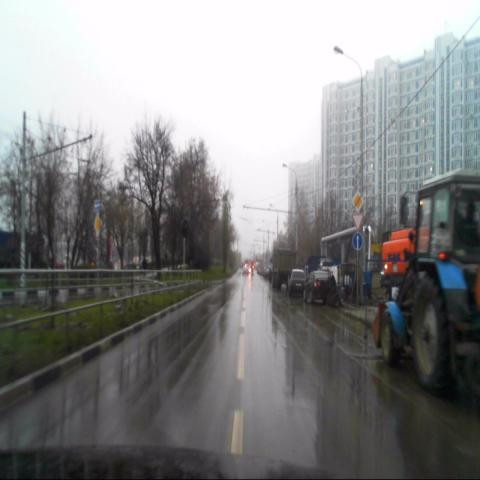2_2: (352, 191, 364, 213)
